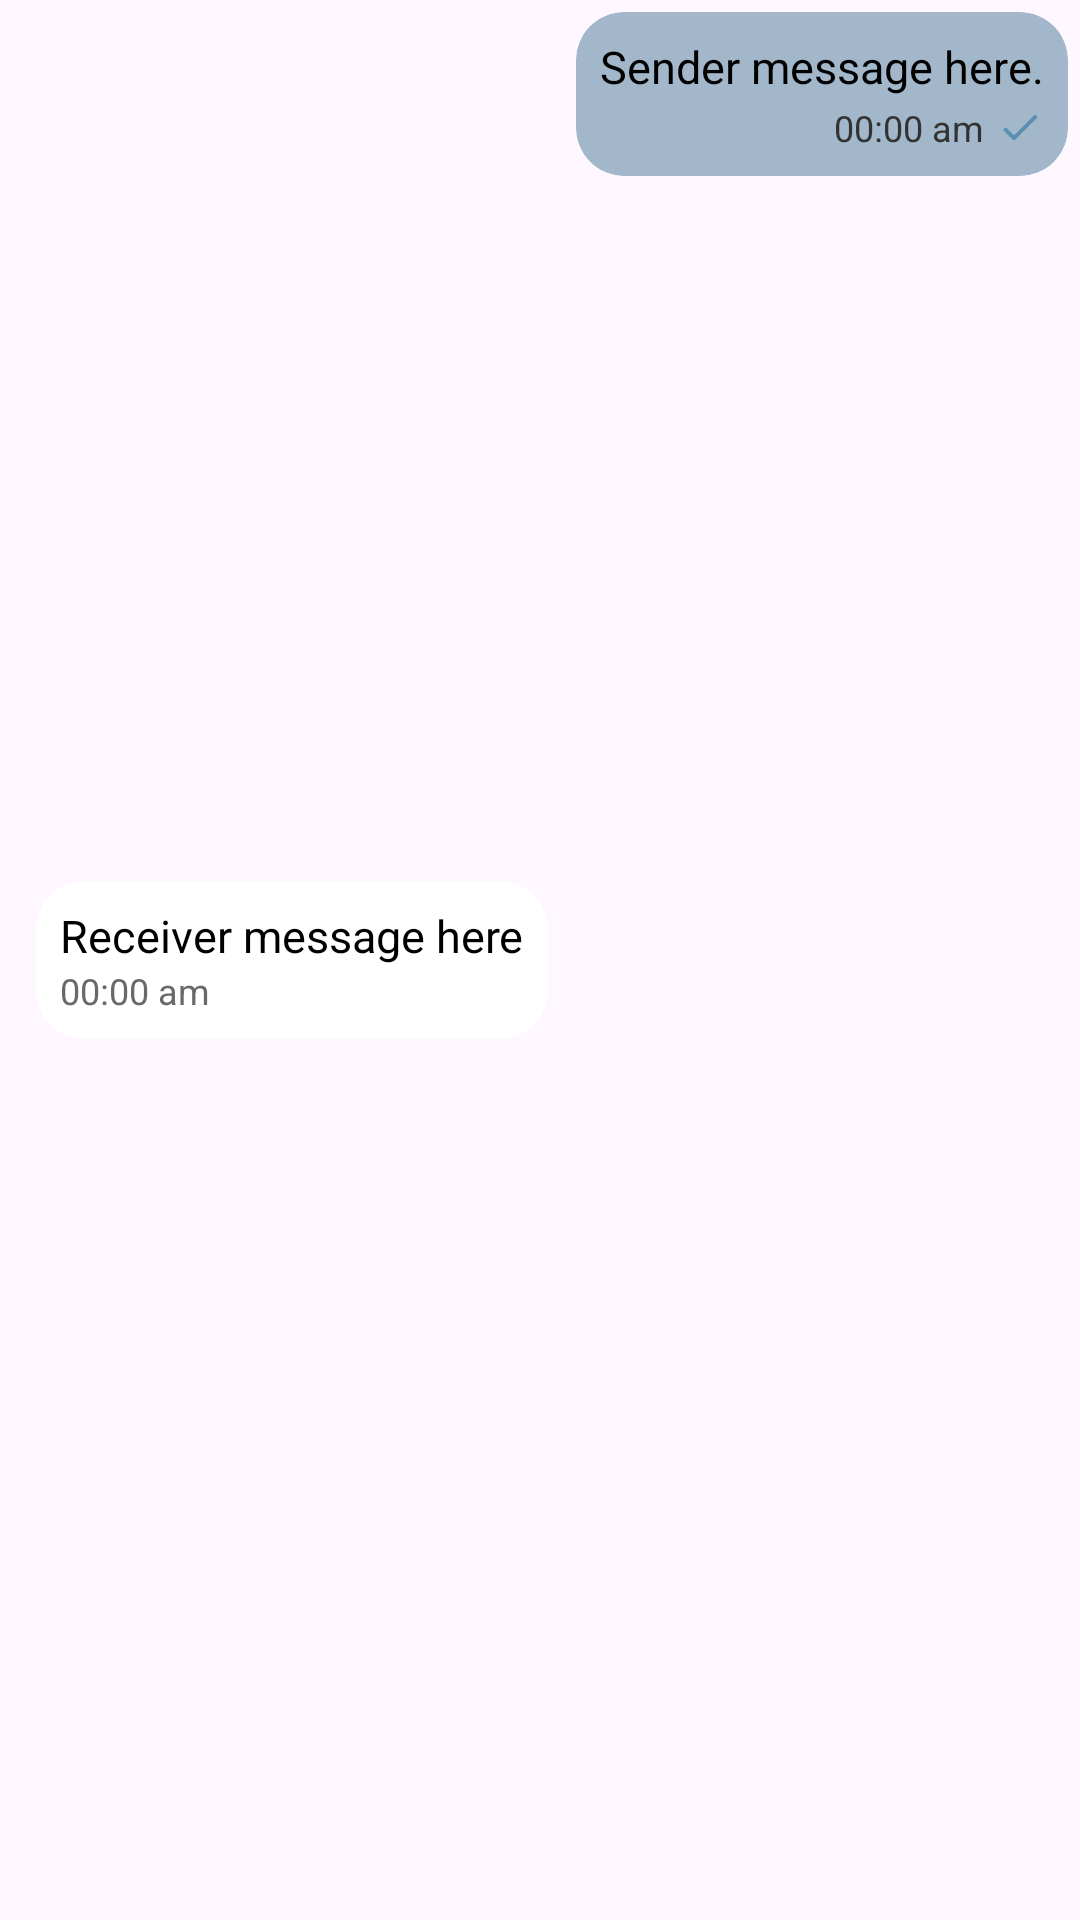

Where icons sit on this 1080 x 1920 app screen, as detection(x1, y1, x2, y2):
Seen or Sent: detection(1004, 115, 1037, 140)
